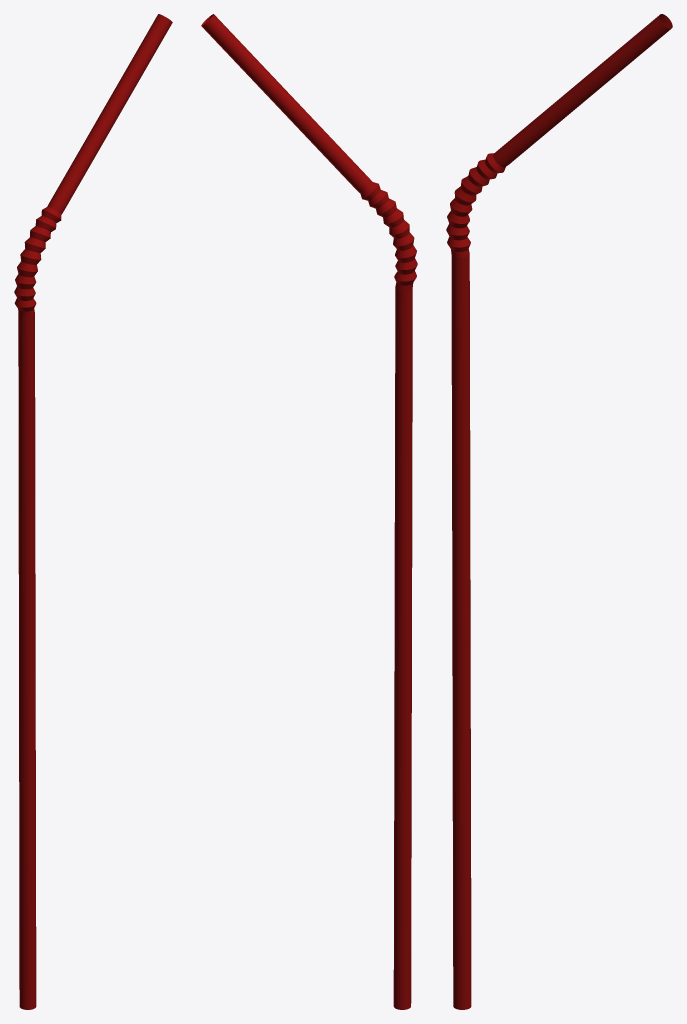
File: straw.glb
3 renders of one model, left to right at view 1: azimuth 30°, elevation 25°; view 2: azimuth 150°, elevation 25°; view 3: azimuth 330°, elevation 25°, orthographic. The views are drawn at different scales.
Parts seen in each view (by area): view 1: Circle; view 2: Circle; view 3: Circle.
Part boxes in pixels (left/top/right/bottom): Circle: left=14, top=14, right=172, bottom=1009; Circle: left=201, top=14, right=417, bottom=1009; Circle: left=446, top=14, right=672, bottom=1009.
Size of the model in its own units: 24.81 by 123 by 8.43.
